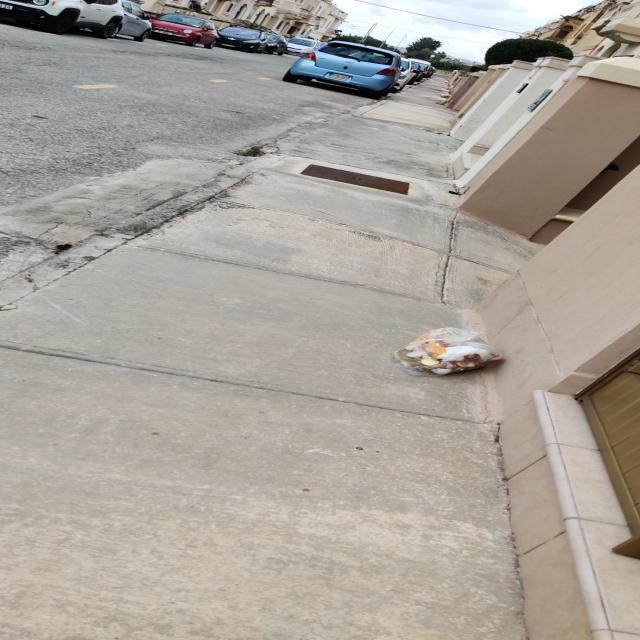Organic Waste -White Bags-: (396, 326, 501, 380)
